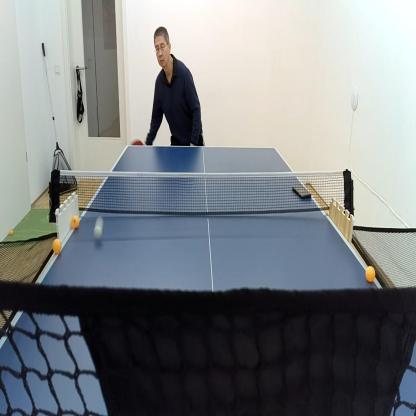Ball: (94, 216, 103, 239), (53, 238, 62, 254), (366, 266, 374, 282), (72, 217, 79, 228), (9, 229, 13, 234)
